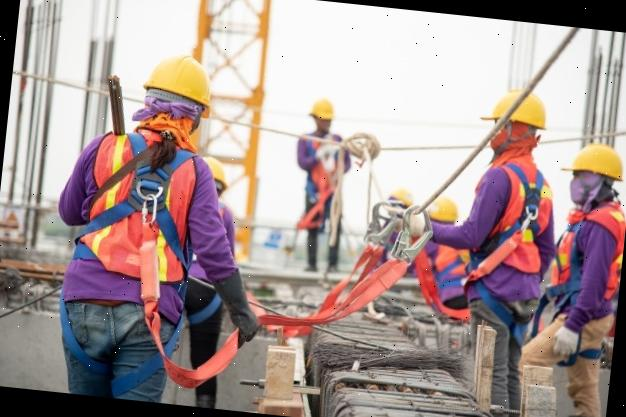helmet: (140, 48, 220, 118), (478, 85, 551, 134), (556, 135, 626, 183), (194, 151, 231, 188), (428, 194, 462, 222), (308, 94, 340, 120), (388, 184, 418, 204)
wear: (63, 133, 202, 307), (465, 154, 560, 295), (548, 201, 626, 320)
